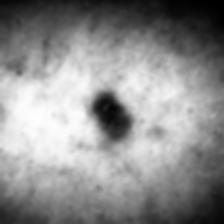Potentially Malignant Skin Tumors: (84, 93, 134, 142)
